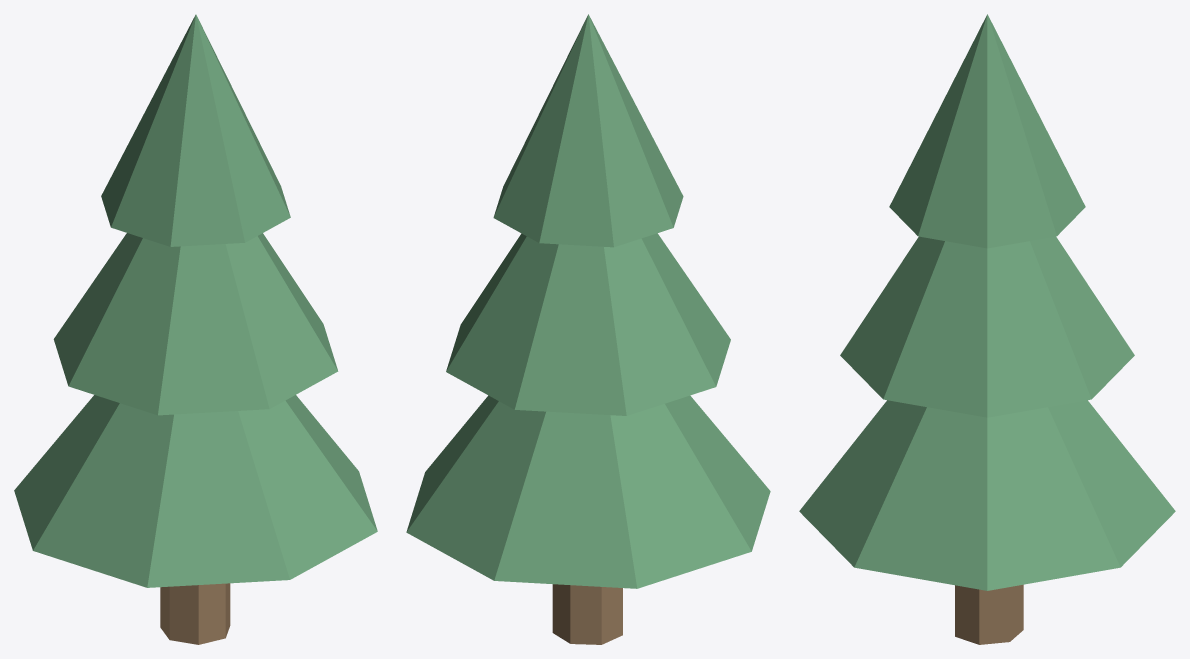
File: tree_pine.glb
3 views of the same model, side by side, from view 1: azimuth 30°, elevation 25°; view 2: azimuth 150°, elevation 25°; view 3: azimuth 270°, elevation 25° (orthographic).
Parts seen in each view (by area): view 1: tree_pine; view 2: tree_pine; view 3: tree_pine.
Part boxes in pixels (box(x1,y1,x2,y2)): tree_pine: box(14, 14, 377, 644); tree_pine: box(406, 14, 770, 644); tree_pine: box(799, 14, 1175, 644).
Size of the model in its own units: 2.3 by 4.15 by 2.3.
